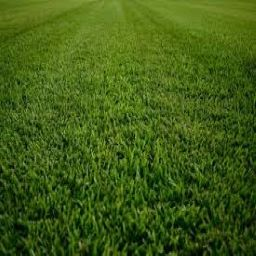grass: (3, 3, 248, 250)
